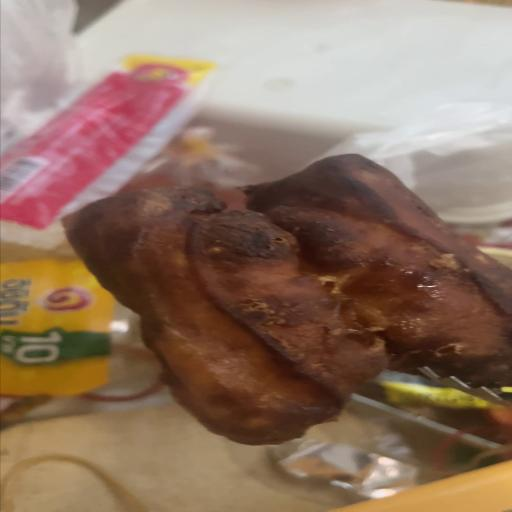street_burnt_defect: (66, 155, 512, 445)
